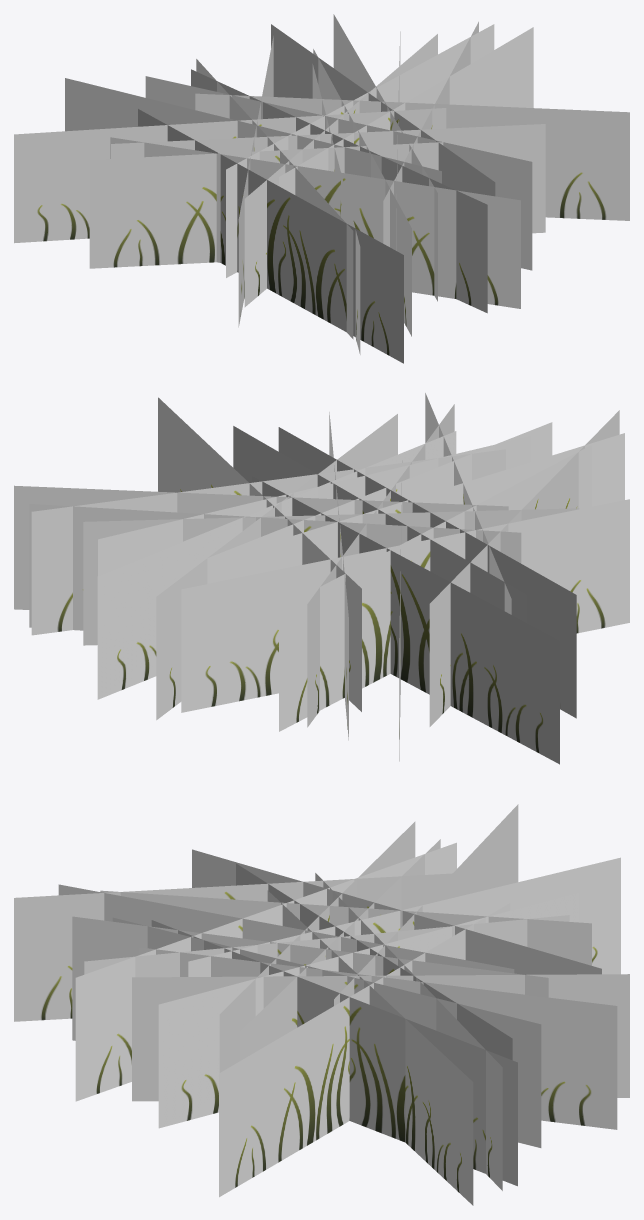
Rendered from grass_small.fbx.
3 views of the same model, one above another, from view 1: azimuth 30°, elevation 25°; view 2: azimuth 150°, elevation 25°; view 3: azimuth 270°, elevation 25° (orthographic). The views are drawn at different scales.
Visible parts, largest first — view 1: grass_small_bundle; view 2: grass_small_bundle; view 3: grass_small_bundle.
Boxes of the visible parts, x1,y1,x2,y2 form: grass_small_bundle: (14,14,629,363); grass_small_bundle: (14,393,629,764); grass_small_bundle: (14,804,629,1205).
Size of the model in its own units: 24.92 by 5.18 by 23.33.
